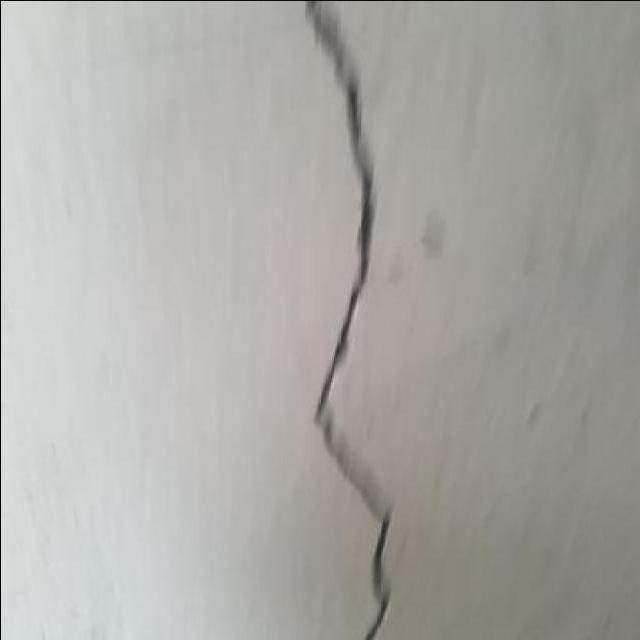Crack: (302, 0, 395, 639)
